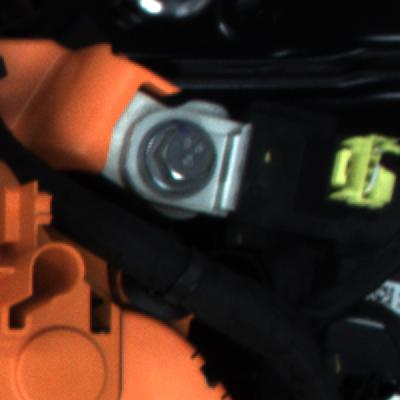nut_b: (127, 117, 231, 205)
